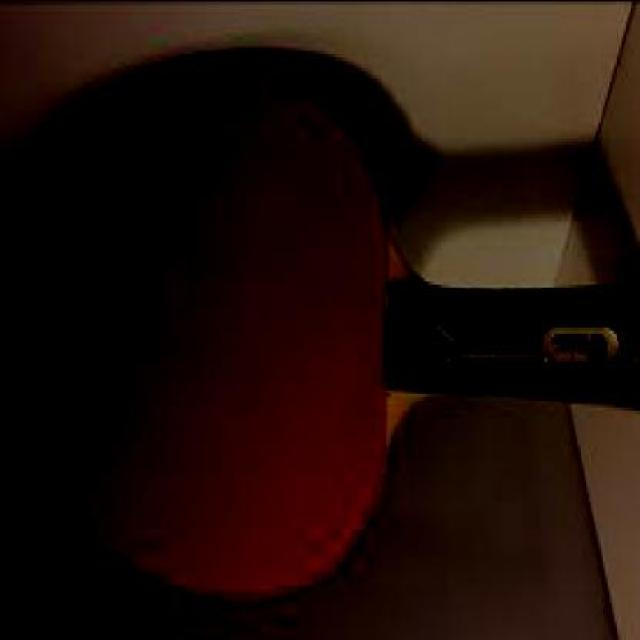table_tennis_racket: (23, 63, 428, 615)
